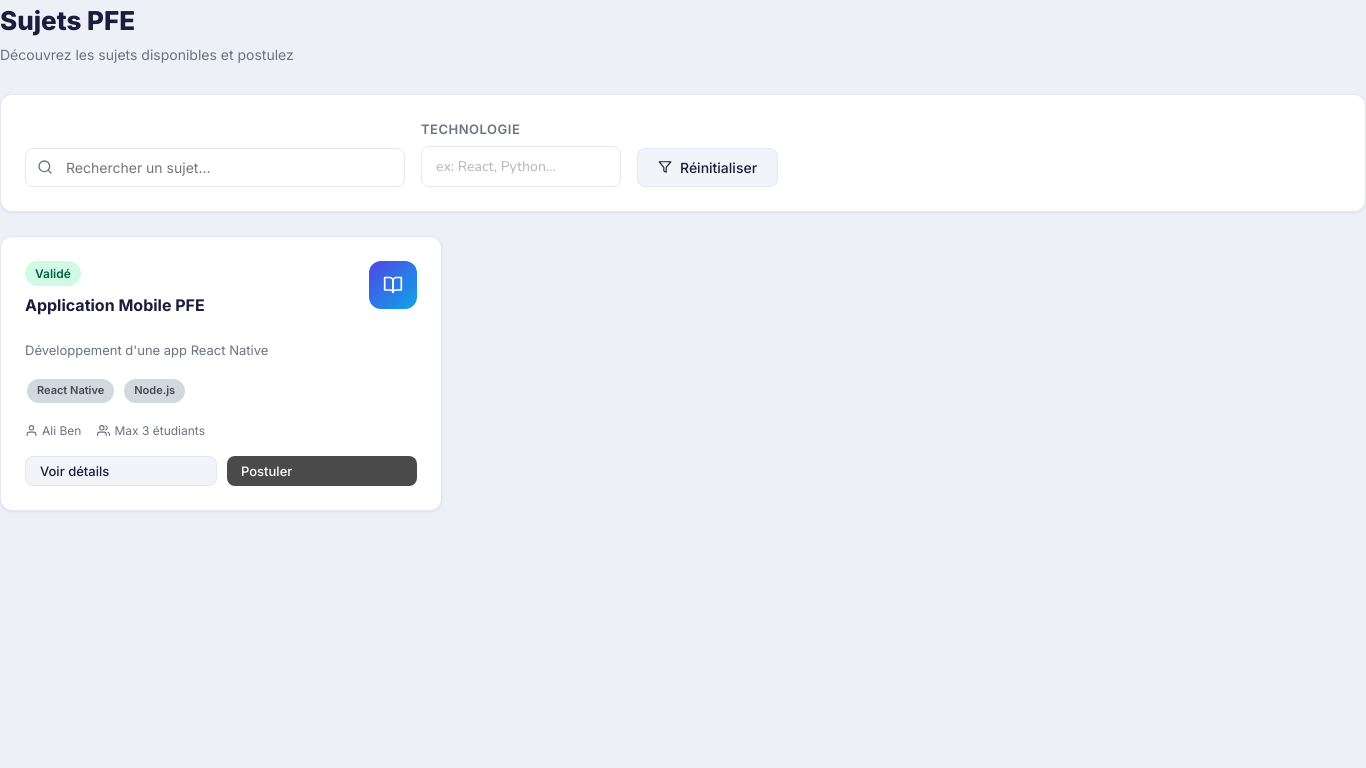
Test: SubjectsPage › opens apply modal on click
Click the button "Postuler": (322, 471) left=227, top=456, right=417, bottom=486
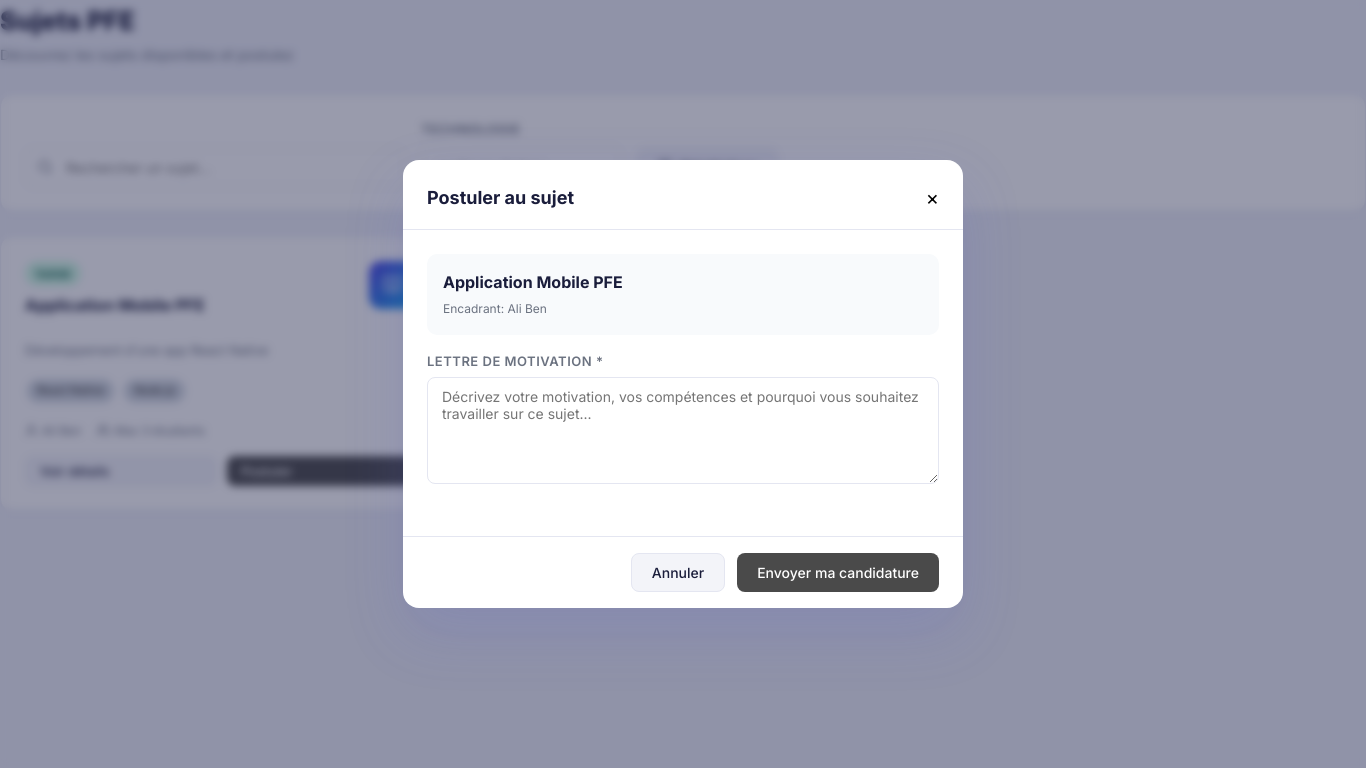
Expected: the heading "Postuler au sujet" is shown, left=427, top=184, right=574, bottom=213
